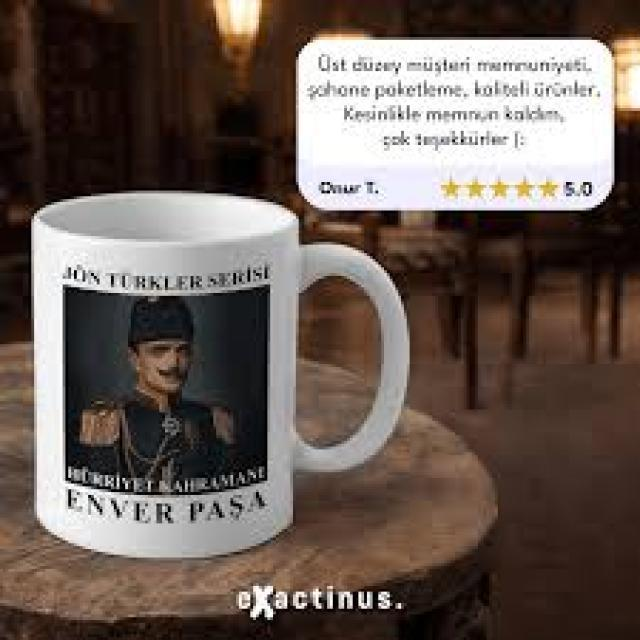taza: (31, 188, 413, 560)
